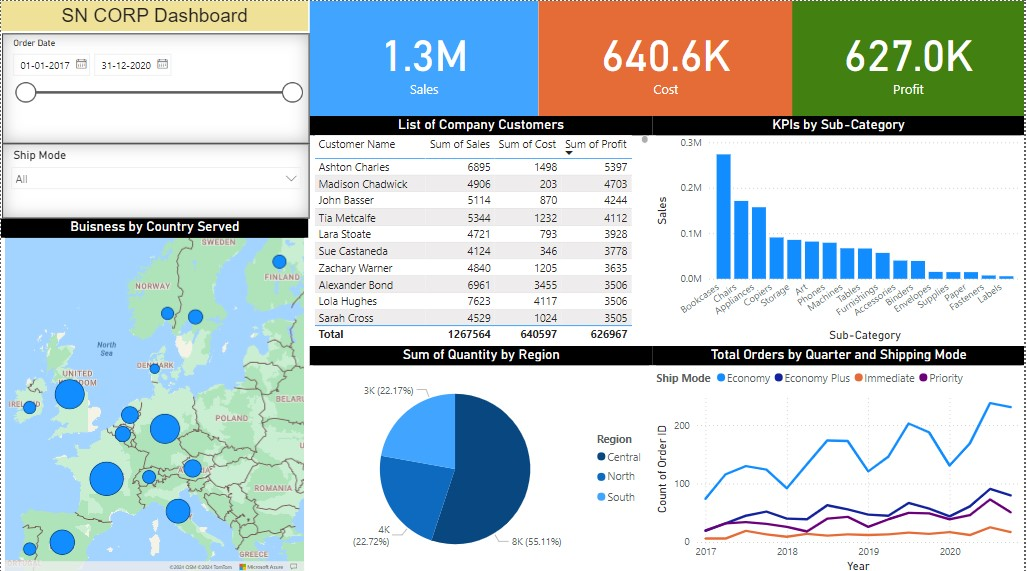

What the dashboard file says about the page in this screenshot:
{"tool":"powerbi","page":{"name":"Page 1","canvas":[1280,720],"ordinal":0},"visuals":[{"type":"card","fields":{"Values":["List of Orders.Sales"]},"box":[385.9,0,285.9,143.8],"z":0},{"type":"card","fields":{"Values":["List of Orders.Cost"]},"box":[671.9,0,318.8,143.8],"z":1000},{"type":"card","fields":{"Values":["List of Orders.Profit"]},"box":[989.1,0,290.6,143.8],"z":2000},{"type":"tableEx","title":"List of Company Customers","fields":{"Values":["List of Orders.Customer Name","List of Orders.Sales","List of Orders.Cost","List of Orders.Profit"]},"box":[385.9,143.8,428.1,287.5],"z":3000},{"type":"clusteredColumnChart","title":"KPIs by Sub-Category","fields":{"Category":["List of Orders.Sub-Category"],"Y":["List of Orders.Sales"]},"box":[814.1,143.8,465.6,287.5],"z":4000},{"type":"lineChart","title":"Total Orders by Quarter and Shipping Mode","fields":{"Y":["List of Orders.Order ID"],"Category":["List of Orders.Order Date.Variation.Date Hierarchy.Year","List of Orders.Order Date.Variation.Date Hierarchy.Quarter"],"Series":["List of Orders.Ship Mode"]},"box":[813.8,431.2,466.2,288.8],"z":5000},{"type":"pieChart","fields":{"Category":["List of Orders.Region"],"Y":["List of Orders.Quantity"]},"box":[386.2,431.2,428.8,288.8],"z":6000},{"type":"azureMap","title":"Buisness by Country Served","fields":{"Category":["List of Orders.Country"],"Size":["List of Orders.Sales"]},"box":[0,271.9,384.4,448.4],"z":7000},{"type":"slicer","fields":{"Values":["List of Orders.Order Date"]},"box":[1.6,40.6,384.4,137.5],"z":8000},{"type":"textbox","box":[0,0,384.4,37.5],"z":9000},{"type":"slicer","fields":{"Values":["List of Orders.Ship Mode"]},"box":[1.6,178.1,384.4,93.8],"z":10000}]}

Visuals, with their boxes in screenshot pixels (x1, y1, x2, y2), scaled from the page's 1280x720 canvas onto the 1027x571 screenshot:
card - List of Orders.Sales: region(310, 0, 539, 114)
card - List of Orders.Cost: region(539, 0, 795, 114)
card - List of Orders.Profit: region(794, 0, 1026, 114)
"List of Company Customers" tableEx: region(310, 114, 653, 342)
"KPIs by Sub-Category" clusteredColumnChart: region(653, 114, 1026, 342)
"Total Orders by Quarter and Shipping Mode" lineChart: region(653, 342, 1026, 570)
pieChart - List of Orders.Region x List of Orders.Quantity: region(310, 342, 654, 570)
"Buisness by Country Served" azureMap: region(0, 216, 308, 570)
slicer - List of Orders.Order Date: region(1, 32, 310, 141)
textbox: region(0, 0, 308, 30)
slicer - List of Orders.Ship Mode: region(1, 141, 310, 216)
